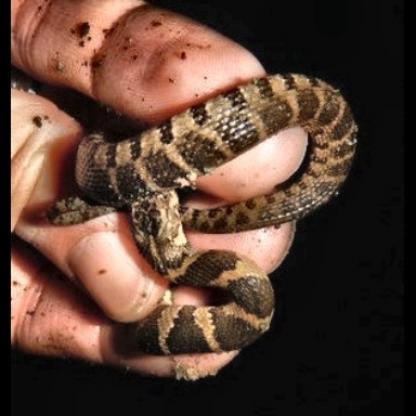Snake: (45, 71, 359, 358)
